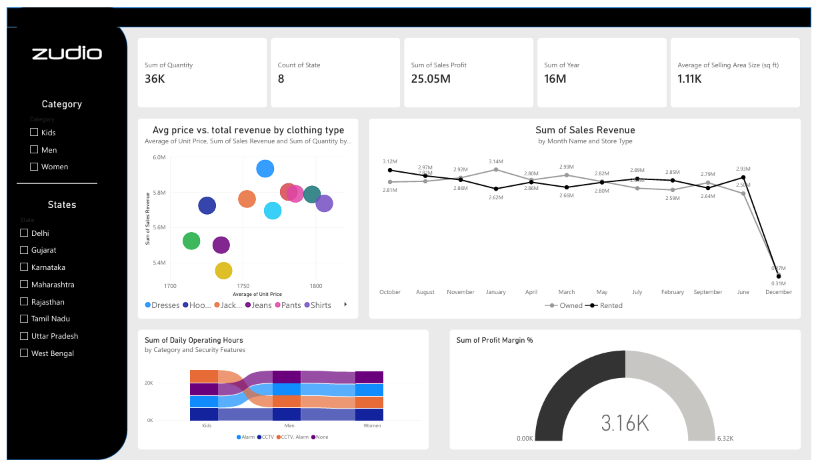

What the dashboard file says about the page in this screenshot:
{"tool":"powerbi","page":{"name":"5","canvas":[1920,1080],"ordinal":4},"visuals":[{"type":"shape","box":[0,24,288,1056],"z":0},{"type":"shape","box":[0,0,1920,48],"z":1000},{"type":"image","box":[24,0,240,216],"z":2000},{"type":"cardVisual","fields":{"Data":["Sum(Sales Data.Quantity)","Count(Sales Data.State)","Sum(Sales Data.Sales Profit)","Sum(Sales Data.Year)","Avg(Sales Data.Selling Area Size (sq ft))"]},"box":[312,72,1584,168],"z":3000},{"type":"slicer","title":"States","fields":{"Values":["Sales Data.State"]},"box":[24,456,216,408],"z":4000},{"type":"shape","box":[24,384,192,72],"z":5000},{"type":"slicer","title":"Category","fields":{"Values":["Sales Data.Category"]},"box":[48,216,168,192],"z":6000},{"type":"lineChart","fields":{"Category":["Sales Data.Month Name"],"Y":["Sum(Sales Data.Sales Revenue)"],"Series":["Sales Data.Store Type"]},"box":[864,264,1032,480],"z":7000},{"type":"ribbonChart","fields":{"Y":["Sum(Sales Data.Daily Operating Hours)"],"Category":["Sales Data.Category"],"Series":["Sales Data.Security Features"]},"box":[312,768,696,288],"z":8000},{"type":"gauge","fields":{"Y":["Sum(Sales Data.Profit Margin %)"]},"box":[1056,768,840,288],"z":9000},{"type":"scatterChart","title":"Avg price vs. total revenue by clothing type","fields":{"X":["Avg(Sales Data.Unit Price)"],"Y":["Sum(Sales Data.Sales Revenue)"],"Series":["Sales Data.Clothing Type"],"Size":["Sum(Sales Data.Quantity)"]},"box":[312,264,528,480],"z":10000}]}

Visuals, with their boxes in screenshot pixels (x1, y1, x2, y2), scaled from the page's 1920x1080 canvas onto the 817x469 screenshot:
shape: <box>0,10,123,468</box>
shape: <box>0,0,816,21</box>
image: <box>10,0,112,94</box>
cardVisual - Sum(Sales Data.Quantity) x Count(Sales Data.State): <box>133,31,807,104</box>
"States" slicer: <box>10,198,102,375</box>
shape: <box>10,167,92,198</box>
"Category" slicer: <box>20,94,92,177</box>
lineChart - Sales Data.Month Name x Sum(Sales Data.Sales Revenue): <box>368,115,807,323</box>
ribbonChart - Sum(Sales Data.Daily Operating Hours) x Sales Data.Category: <box>133,334,429,459</box>
gauge - Sum(Sales Data.Profit Margin %): <box>449,334,807,459</box>
"Avg price vs. total revenue by clothing type" scatterChart: <box>133,115,357,323</box>
